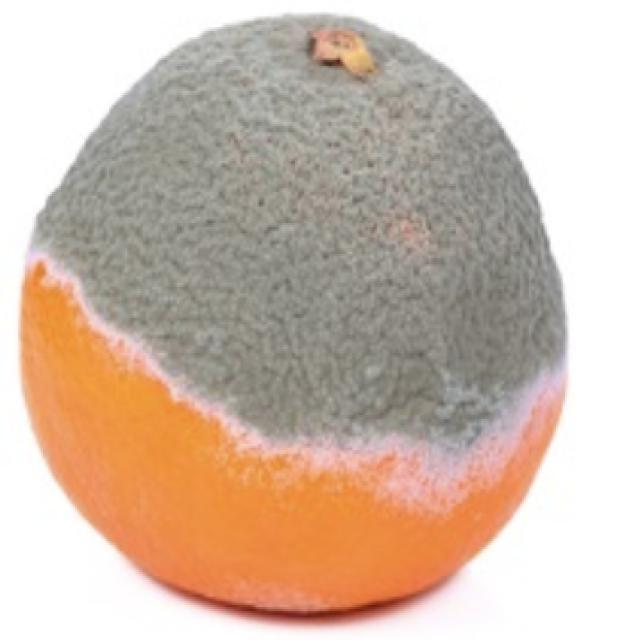sangat-busuk: (21, 13, 566, 610), (34, 14, 564, 447), (143, 449, 147, 460)
